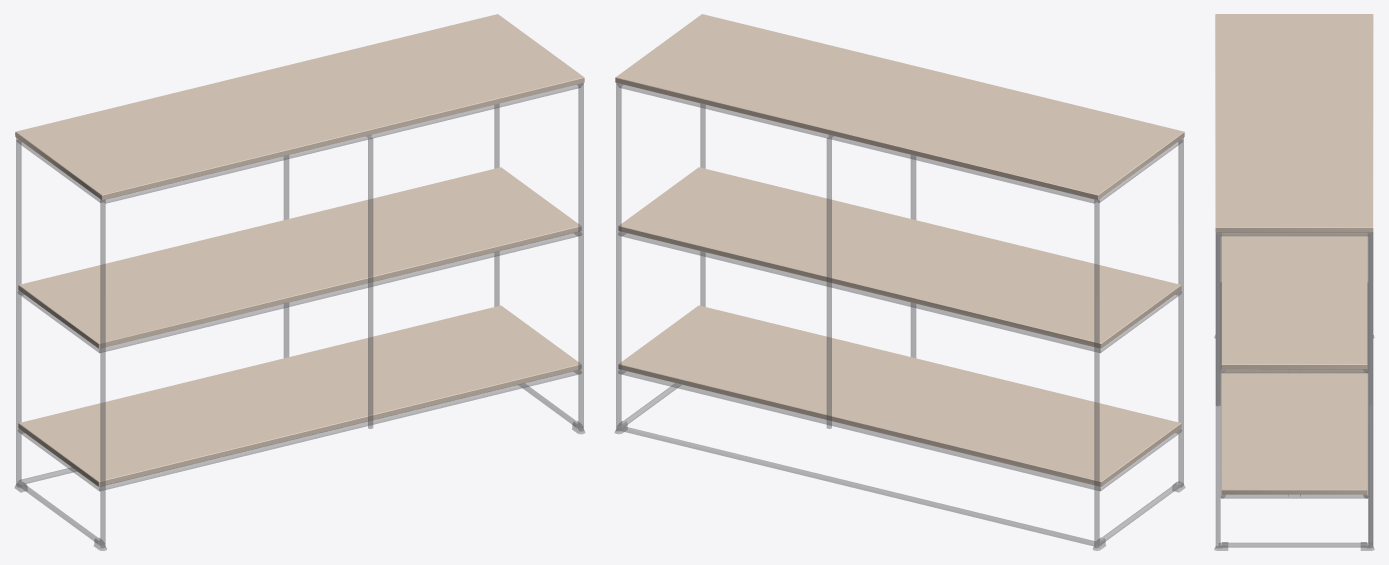
File: Shelf1.glb
The picture shows the model from 3 angles, left to right: view 1: azimuth 30°, elevation 25°; view 2: azimuth 150°, elevation 25°; view 3: azimuth 270°, elevation 25°; orthographic projection. The views are drawn at different scales.
Visible parts, largest first — view 1: Furniture_Shelving-Storage_Fritz-Hansen_PlannerT-MC500; view 2: Furniture_Shelving-Storage_Fritz-Hansen_PlannerT-MC500; view 3: Furniture_Shelving-Storage_Fritz-Hansen_PlannerT-MC500.
Part boxes in pixels (x1,y1,x2,y2): Furniture_Shelving-Storage_Fritz-Hansen_PlannerT-MC500: [14, 14, 585, 550]; Furniture_Shelving-Storage_Fritz-Hansen_PlannerT-MC500: [614, 14, 1185, 550]; Furniture_Shelving-Storage_Fritz-Hansen_PlannerT-MC500: [1214, 14, 1374, 550].
Bounding box in the file's own units: 24.14 × 16.88 × 7.63.
